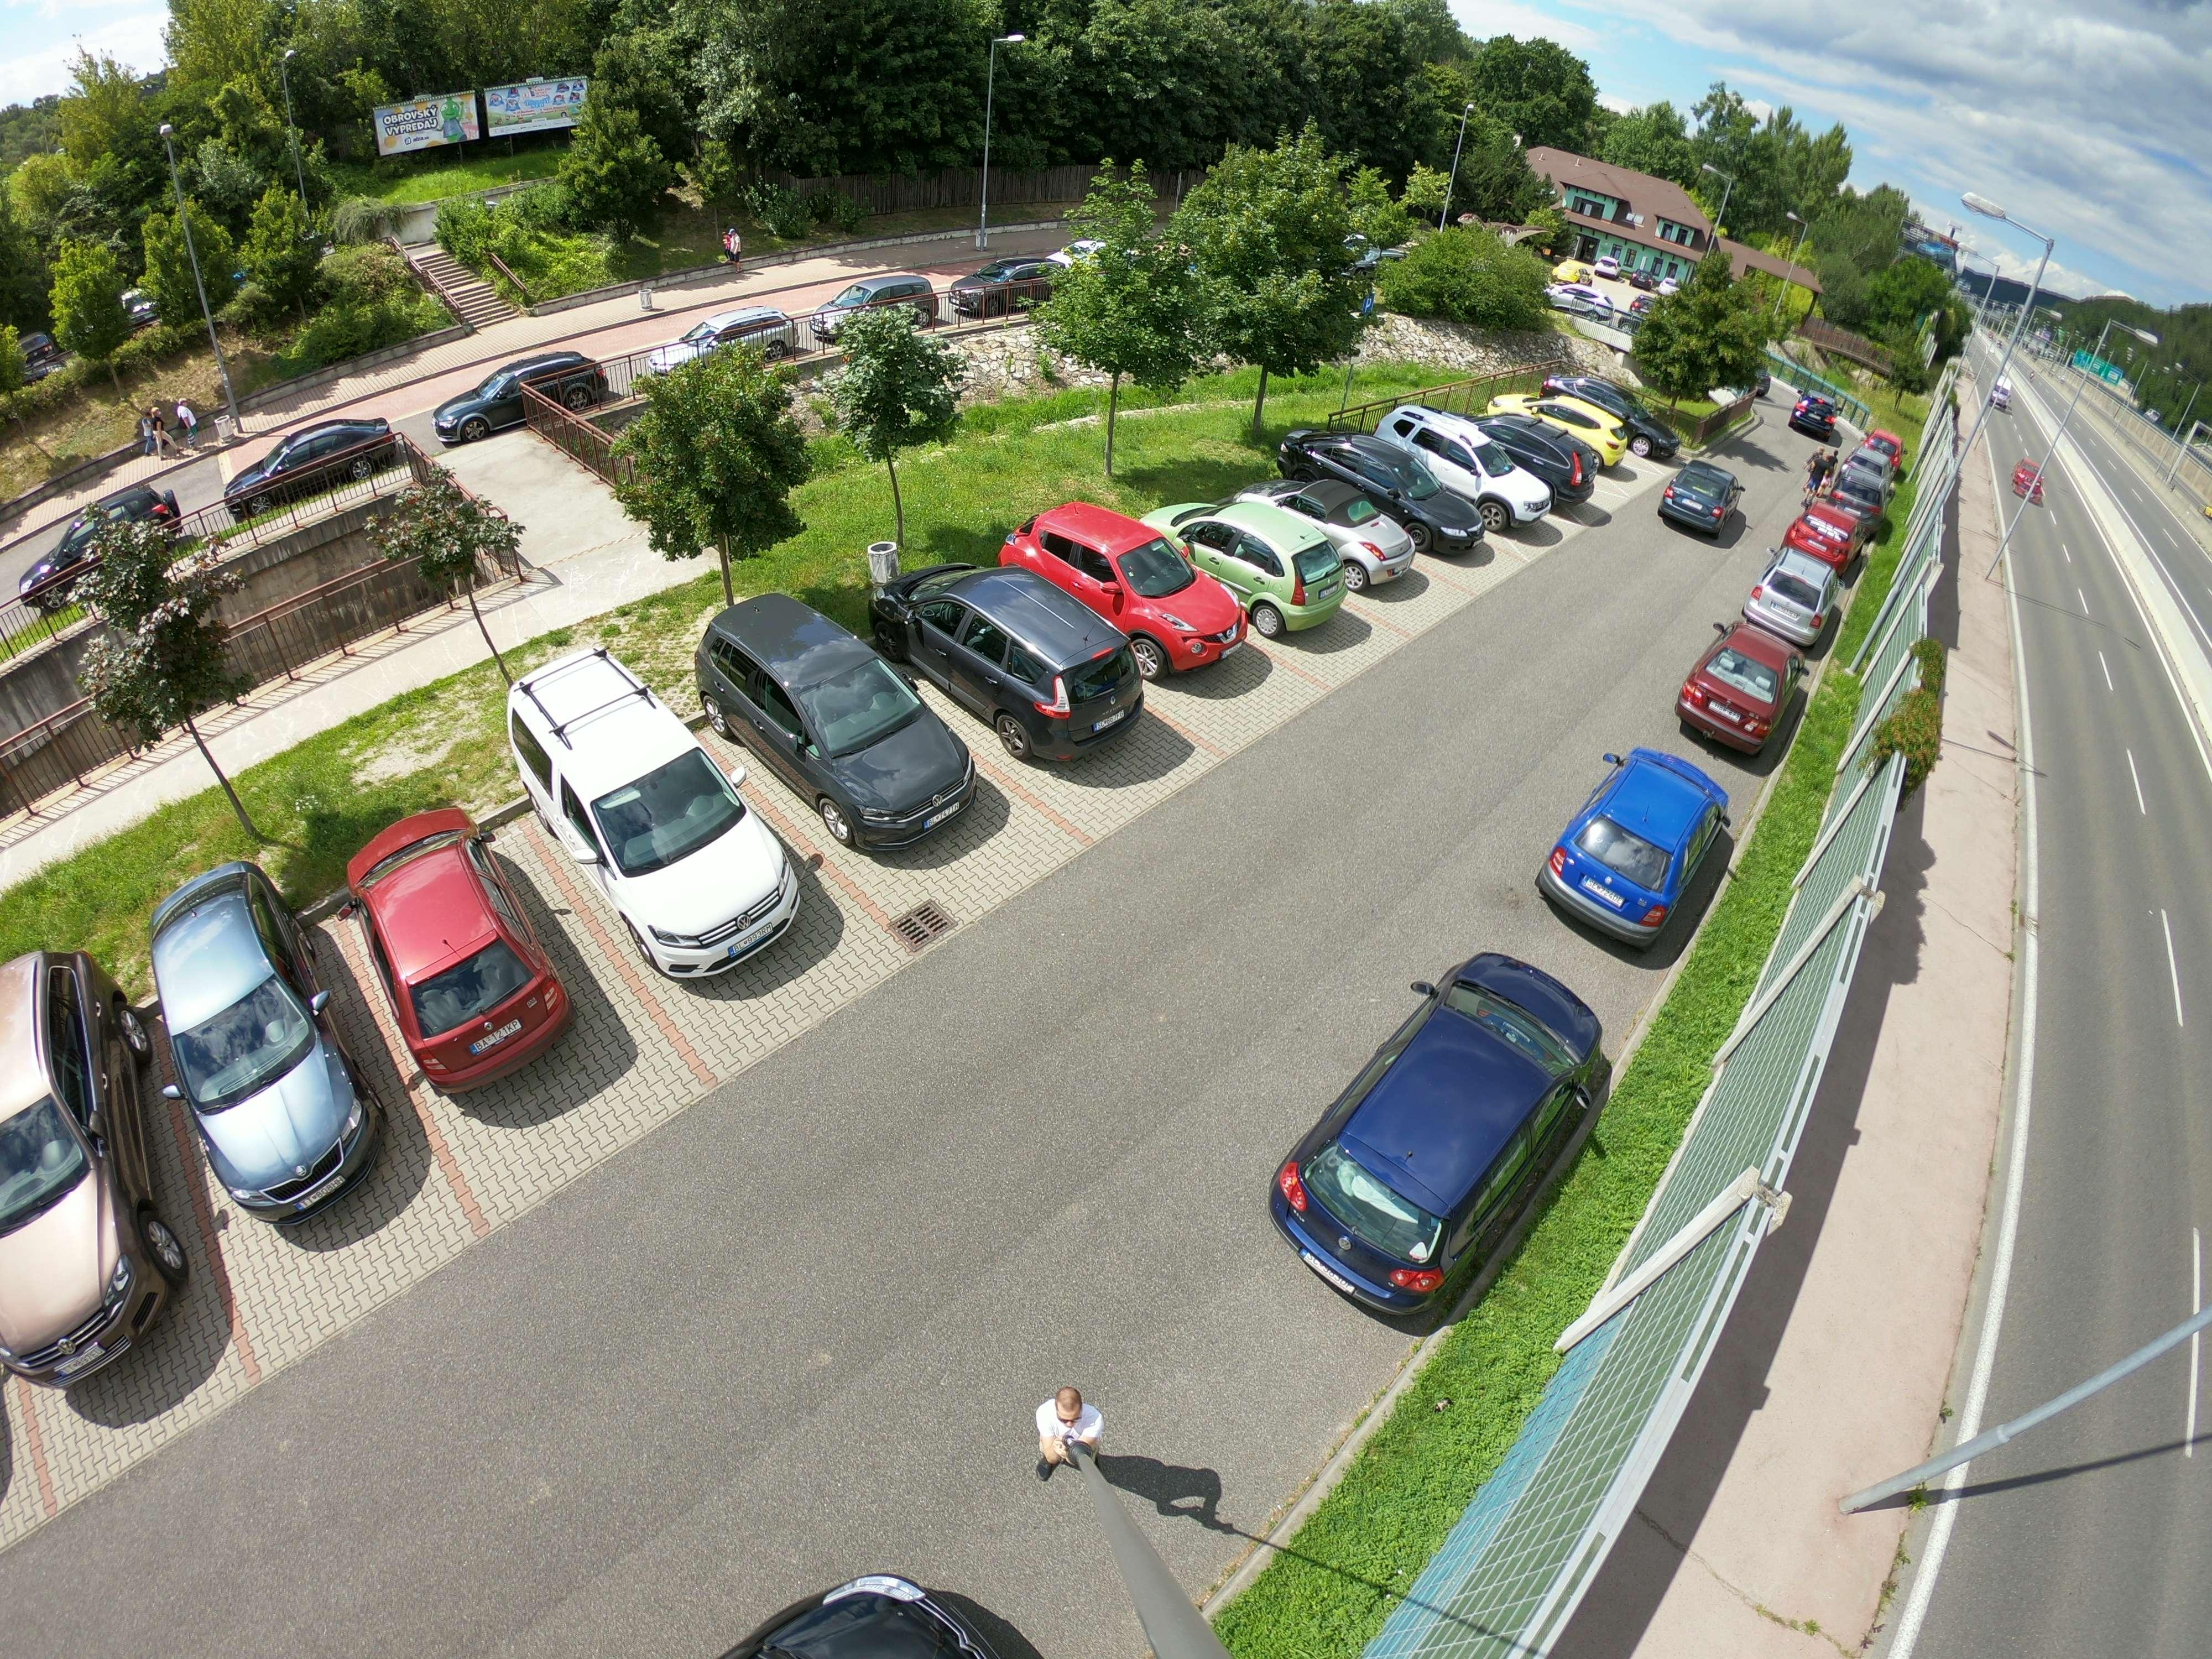empty: (1270, 955, 1604, 1310), (524, 634, 805, 978), (132, 857, 380, 1215), (0, 925, 183, 1384), (702, 601, 989, 854), (331, 809, 583, 1089), (892, 575, 1141, 748), (1541, 749, 1735, 938), (1021, 512, 1237, 660), (1167, 502, 1364, 617), (1383, 410, 1564, 518), (216, 406, 406, 509), (1313, 441, 1489, 545), (17, 495, 188, 598), (1275, 484, 1418, 589), (432, 359, 603, 444), (1665, 643, 1789, 749), (1501, 394, 1641, 481), (664, 305, 796, 382), (1649, 465, 1750, 544)
occupied: (937, 1316, 1310, 1561)
